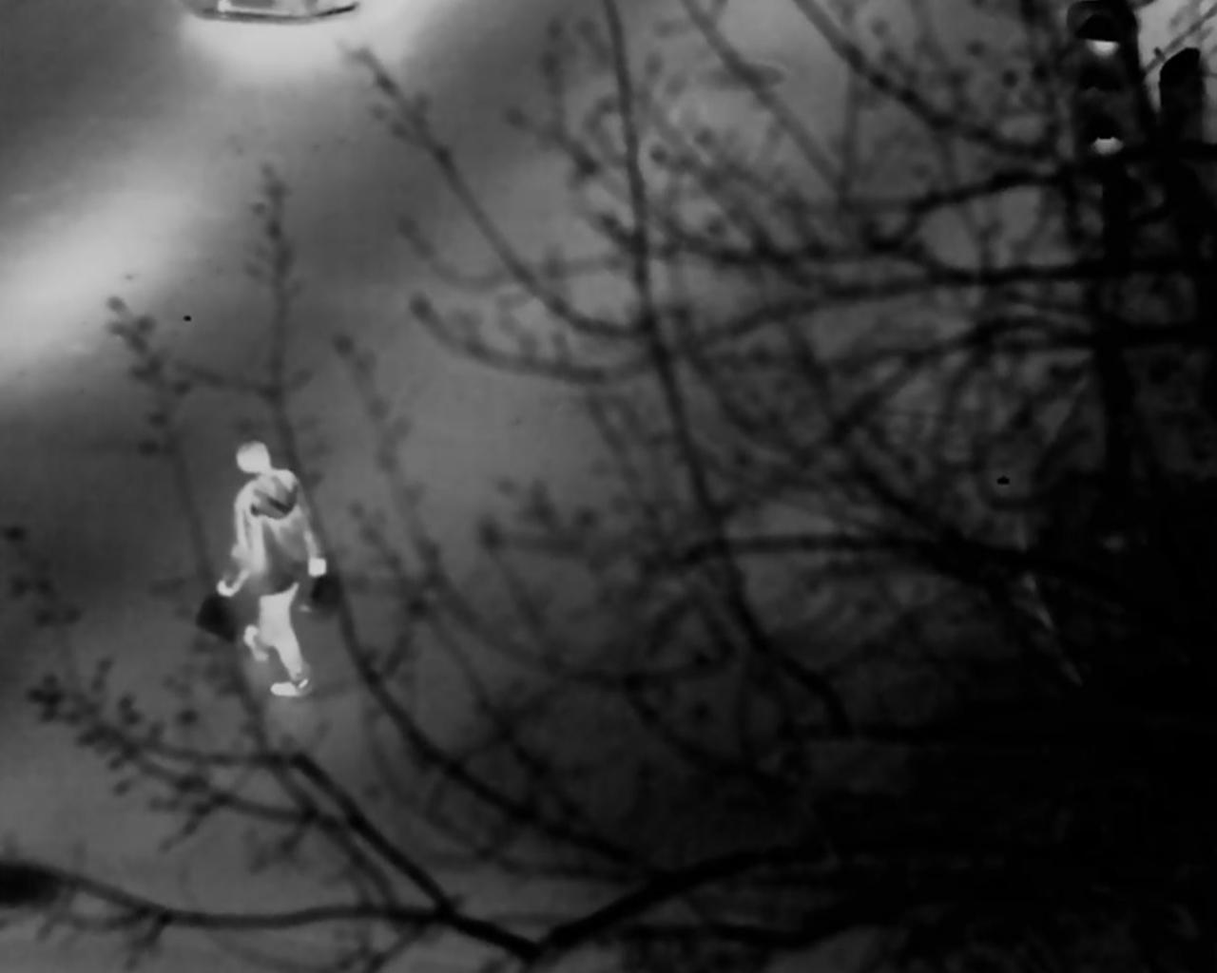person: (225, 439, 319, 700)
